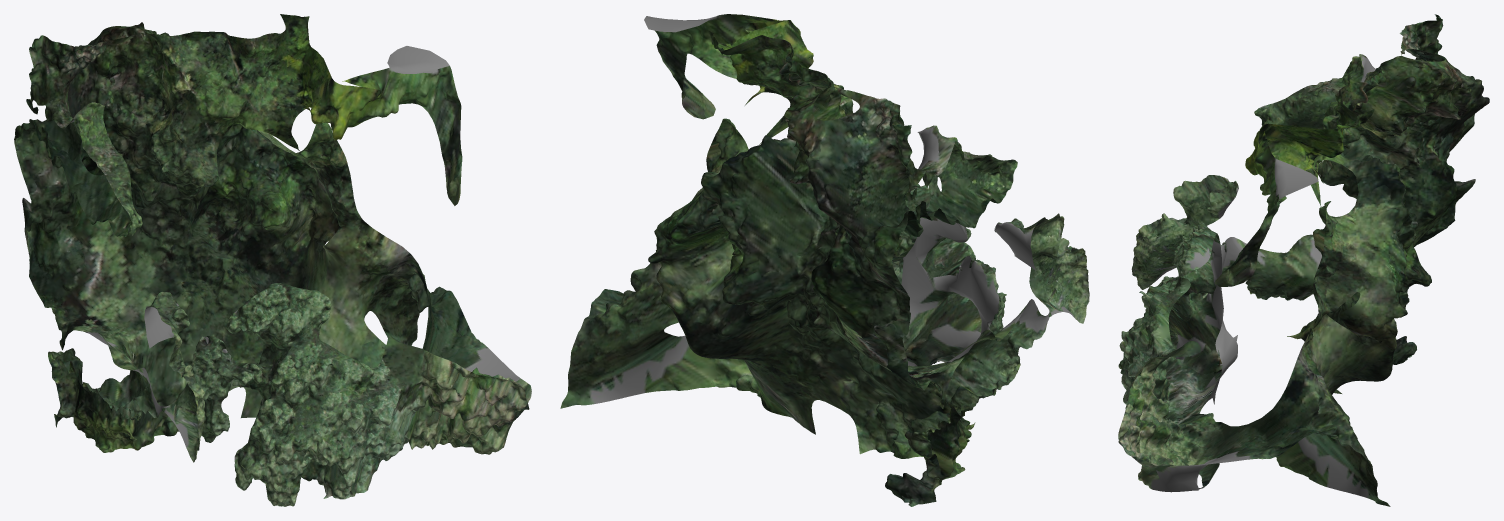
The model's file is Tile_+023_+019.fbx.
3 renders of one model, left to right at view 1: azimuth 30°, elevation 25°; view 2: azimuth 150°, elevation 25°; view 3: azimuth 270°, elevation 25°, orthographic. The views are drawn at different scales.
Visible parts, largest first — view 1: DefaultName; view 2: DefaultName; view 3: DefaultName.
Boxes of the visible parts, x1,y1,x2,y2 form: DefaultName: [14, 14, 531, 506]; DefaultName: [560, 14, 1089, 506]; DefaultName: [1118, 14, 1489, 506].
Size of the model in its own units: 22.54 by 22.54 by 22.58.
